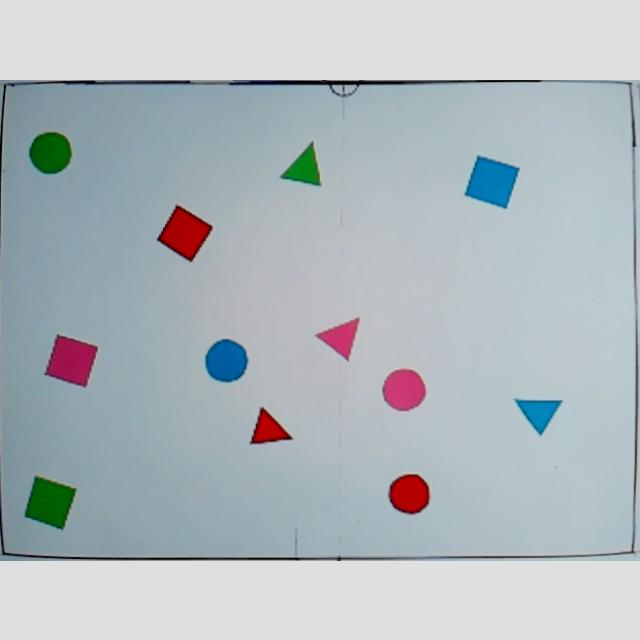blueCircle: (202, 335, 250, 383)
blueSquare: (464, 154, 520, 210)
blueTriangle: (514, 395, 562, 437)
greenCircle: (26, 130, 74, 174)
greenSquare: (22, 472, 78, 530)
greenTriangle: (278, 140, 324, 188)
pinkCircle: (380, 364, 428, 412)
pinkSquare: (42, 332, 98, 388)
pinkTriangle: (312, 314, 362, 362)
redCircle: (388, 470, 434, 518)
redSquare: (155, 201, 215, 263)
redTriangle: (247, 402, 295, 450)
